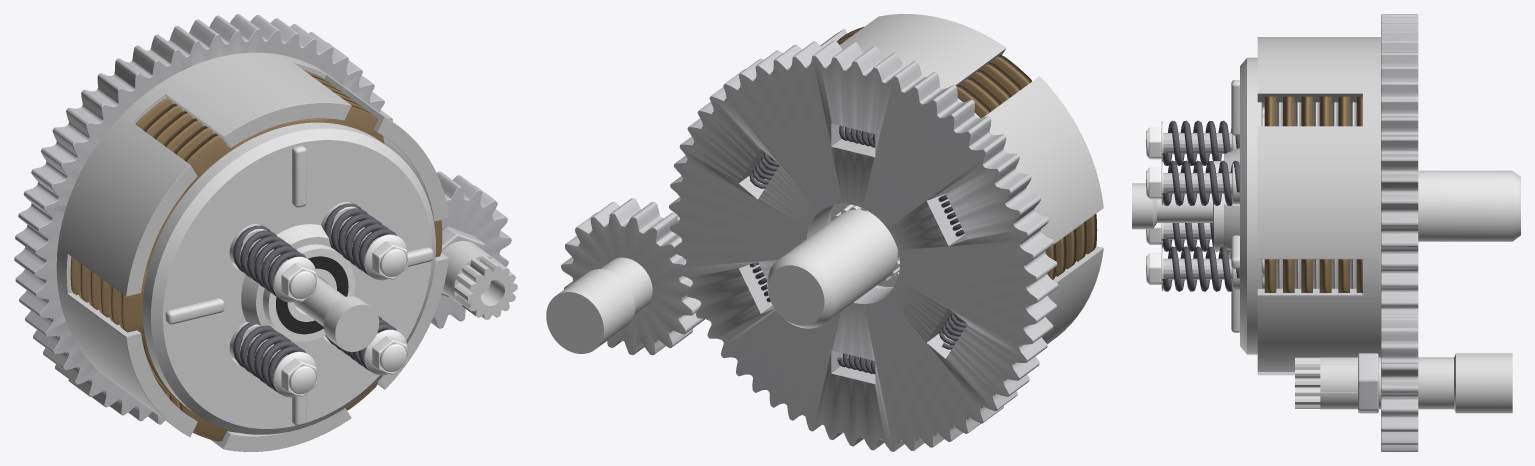
File: clutch.glb
The picture shows the model from 3 angles, left to right: view 1: azimuth 30°, elevation 25°; view 2: azimuth 150°, elevation 25°; view 3: azimuth 270°, elevation 25°; orthographic projection. The views are drawn at different scales.
Parts seen in each view (by area): view 1: clutch__basket, clutch__pressure_plate, clutch__friction_plates, clutch__springs, clutch__spring_bolts, clutch__crank_stub, clutch__primary_gear, clutch__release_bearing, clutch__lifter, clutch__hub; view 2: clutch__basket, clutch__primary_gear, clutch__mainshaft, clutch__crank_stub, clutch__friction_plates, clutch__damper_springs; view 3: clutch__basket, clutch__crank_stub, clutch__pressure_plate, clutch__mainshaft, clutch__springs, clutch__primary_gear, clutch__spring_bolts, clutch__friction_plates, clutch__lifter, clutch__steel_plates, clutch__hub, clutch__release_bearing.
Part boxes in pixels (bbox=[...]): clutch__basket: bbox=[14, 14, 448, 451]; clutch__pressure_plate: bbox=[143, 122, 435, 434]; clutch__friction_plates: bbox=[70, 70, 442, 441]; clutch__springs: bbox=[233, 203, 396, 393]; clutch__spring_bolts: bbox=[247, 218, 407, 397]; clutch__crank_stub: bbox=[441, 227, 517, 319]; clutch__primary_gear: bbox=[431, 171, 511, 328]; clutch__release_bearing: bbox=[263, 244, 355, 341]; clutch__lifter: bbox=[294, 276, 379, 351]; clutch__hub: bbox=[229, 201, 364, 360]; clutch__basket: bbox=[669, 14, 1103, 451]; clutch__primary_gear: bbox=[561, 198, 704, 355]; clutch__mainshaft: bbox=[767, 204, 899, 328]; clutch__crank_stub: bbox=[546, 215, 679, 353]; clutch__friction_plates: bbox=[836, 27, 1097, 279]; clutch__damper_springs: bbox=[749, 125, 967, 374]; clutch__basket: bbox=[1257, 14, 1418, 375]; clutch__crank_stub: bbox=[1295, 353, 1512, 413]; clutch__pressure_plate: bbox=[1224, 57, 1261, 354]; clutch__mainshaft: bbox=[1418, 170, 1520, 241]; clutch__springs: bbox=[1161, 120, 1239, 291]; clutch__primary_gear: bbox=[1381, 314, 1418, 451]; clutch__spring_bolts: bbox=[1146, 121, 1232, 290]; clutch__friction_plates: bbox=[1264, 96, 1362, 292]; clutch__lifter: bbox=[1132, 183, 1212, 229]; clutch__steel_plates: bbox=[1276, 102, 1356, 288]; clutch__hub: bbox=[1232, 107, 1264, 289]; clutch__release_bearing: bbox=[1213, 161, 1231, 251].
Bounding box in the file's own units: 11.89 × 9.2 × 9.3.
